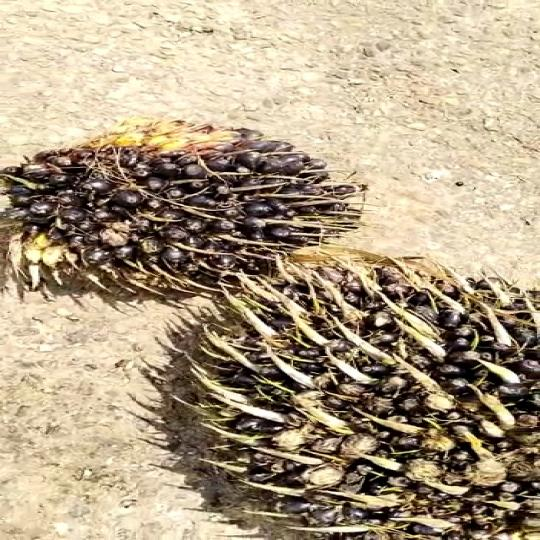mentah: (174, 258, 540, 539), (7, 114, 373, 295)
